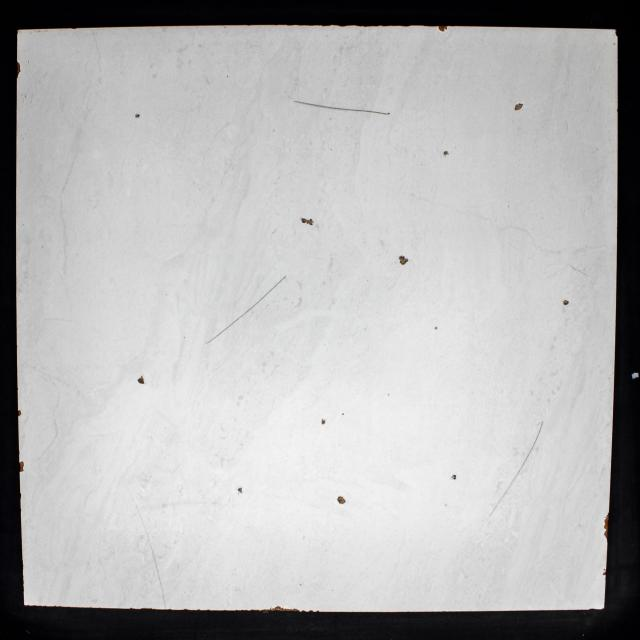edge-chipping: (16, 60, 22, 79), (273, 605, 284, 611), (18, 461, 24, 472), (438, 26, 448, 32), (285, 608, 300, 612), (260, 607, 272, 611), (18, 409, 22, 417), (301, 609, 306, 612), (308, 610, 314, 612)
hole: (299, 216, 314, 226), (398, 255, 409, 265), (336, 495, 346, 505), (514, 103, 524, 111), (137, 375, 145, 385), (562, 299, 570, 306), (237, 487, 243, 494), (321, 418, 326, 426), (442, 150, 448, 156), (451, 474, 457, 480), (134, 113, 141, 118), (434, 326, 438, 329)
line: (488, 468, 521, 517), (292, 100, 390, 115), (207, 310, 248, 344), (249, 276, 287, 310), (522, 420, 544, 467), (134, 503, 153, 552), (153, 554, 166, 609)
